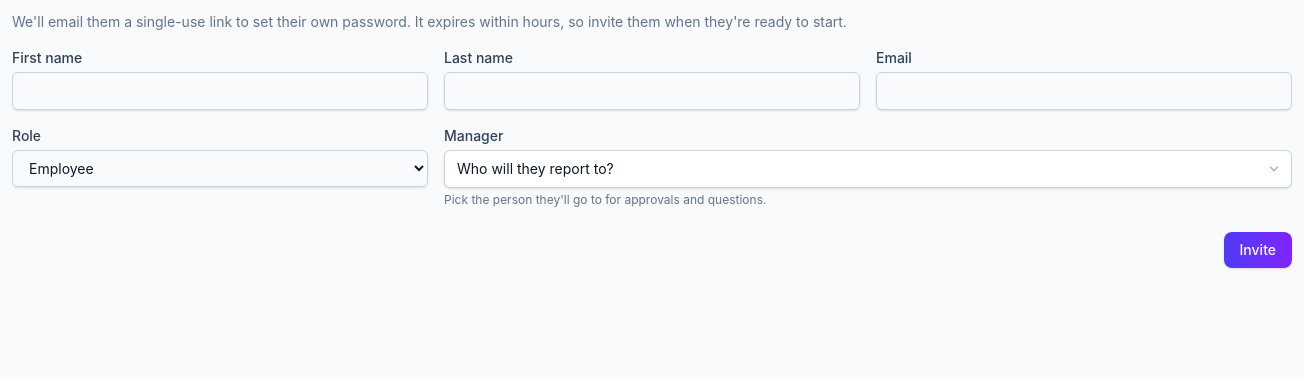
Test: InviteEmployeeForm › warns when the server couldn't build an invite link at all
Type "New" into the field labelled "First name".
click(220, 91); type("New")  # box [12,72,428,110]
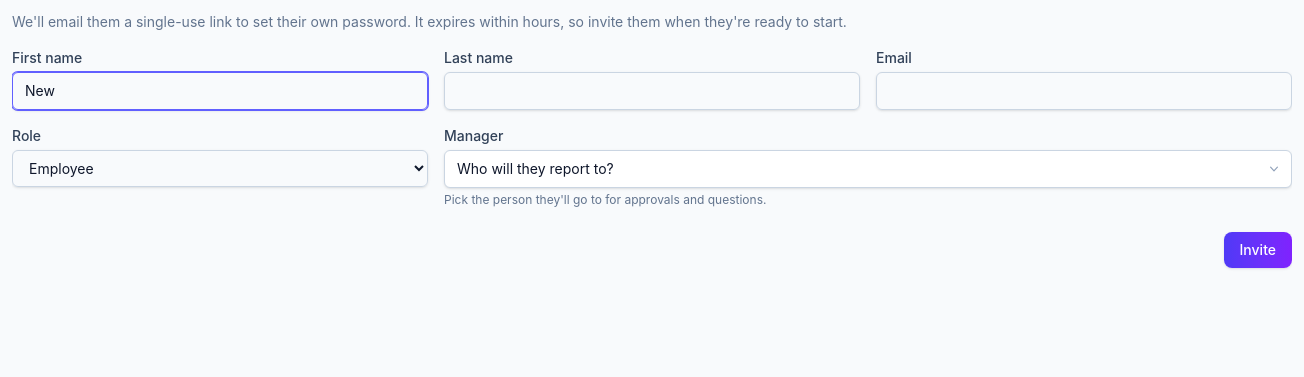
Type "Hire" into the field labelled "Last name".
click(652, 91); type("Hire")  # box [444,72,860,110]
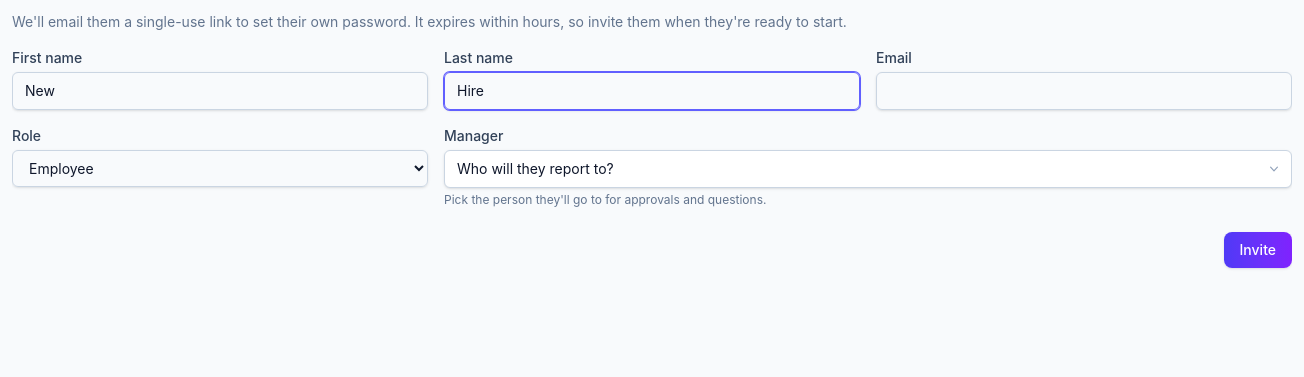
Type "new@example.com" into the field labelled "Email".
click(1084, 91); type("new@example.com")  # box [876,72,1292,110]
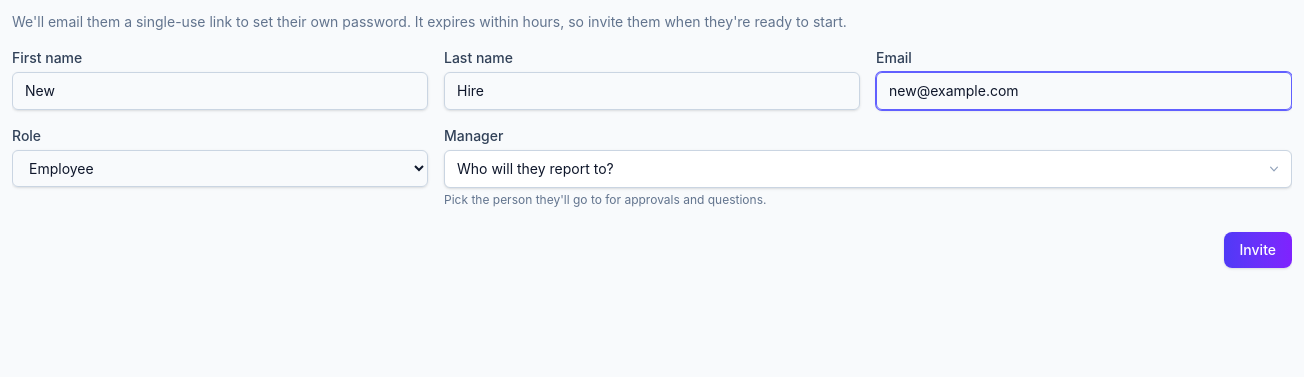
Select "Test User" in the dropdown labelled "Manager" at (868, 169), box [444,150,1292,188]
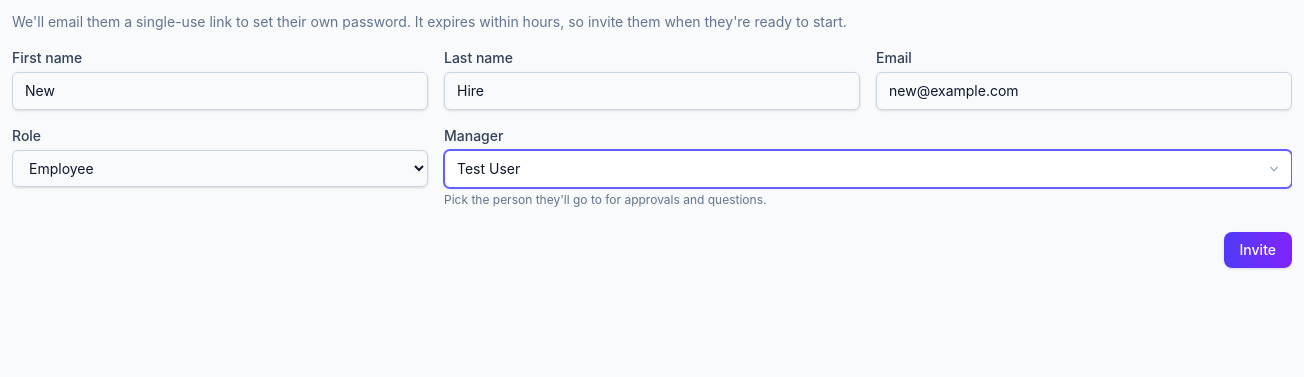
Click the button "Invite".
click(1258, 250)  # box [1224,232,1292,268]
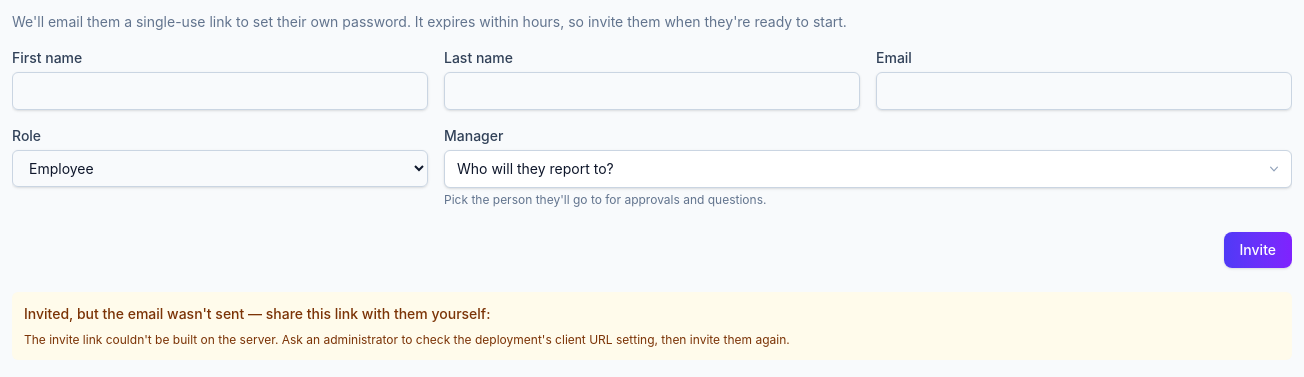
Check: the text "invite link couldn't be built" is shown, box [24,332,790,347]
